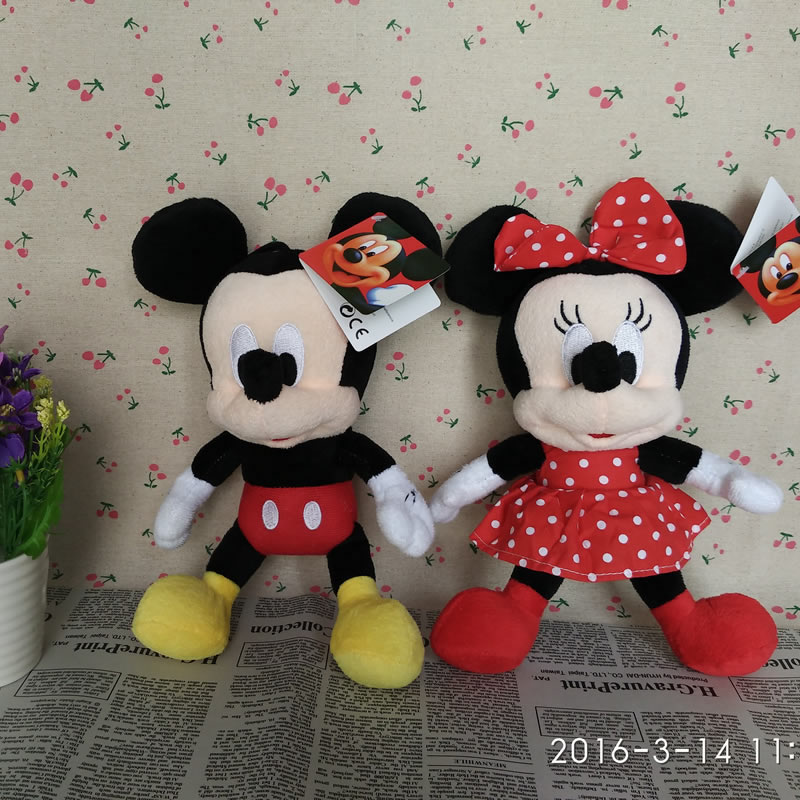Mickey: (127, 184, 445, 453)
